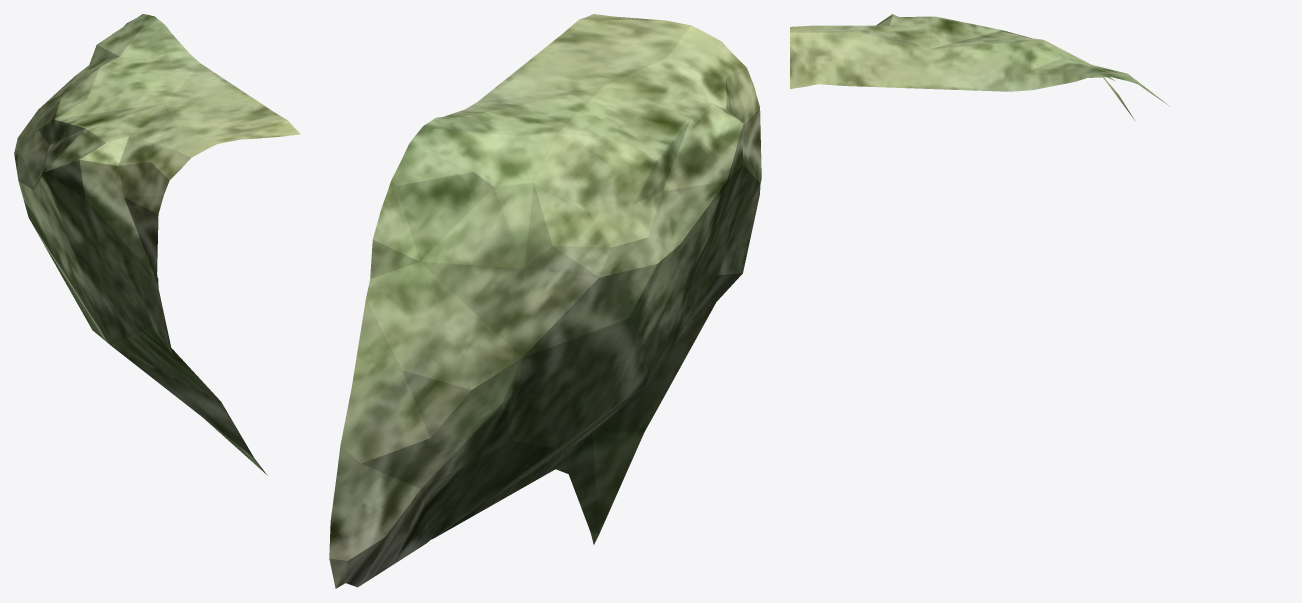
The picture shows the model from 3 angles, left to right: view 1: azimuth 30°, elevation 25°; view 2: azimuth 150°, elevation 25°; view 3: azimuth 270°, elevation 25°; orthographic projection. The views are drawn at different scales.
Bounding box in the file's own units: 1.33 × 3.19 × 2.82.
1 material, 1 textured.
